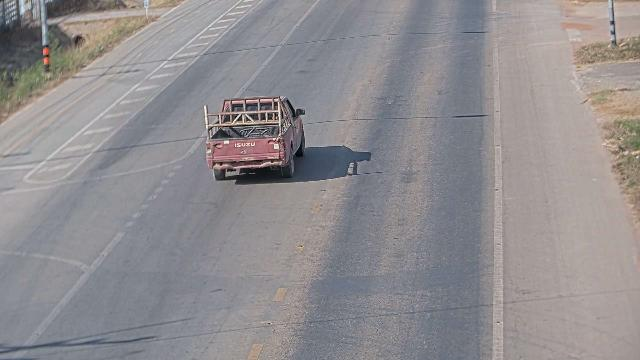pickup-truck: (203, 95, 306, 181)
